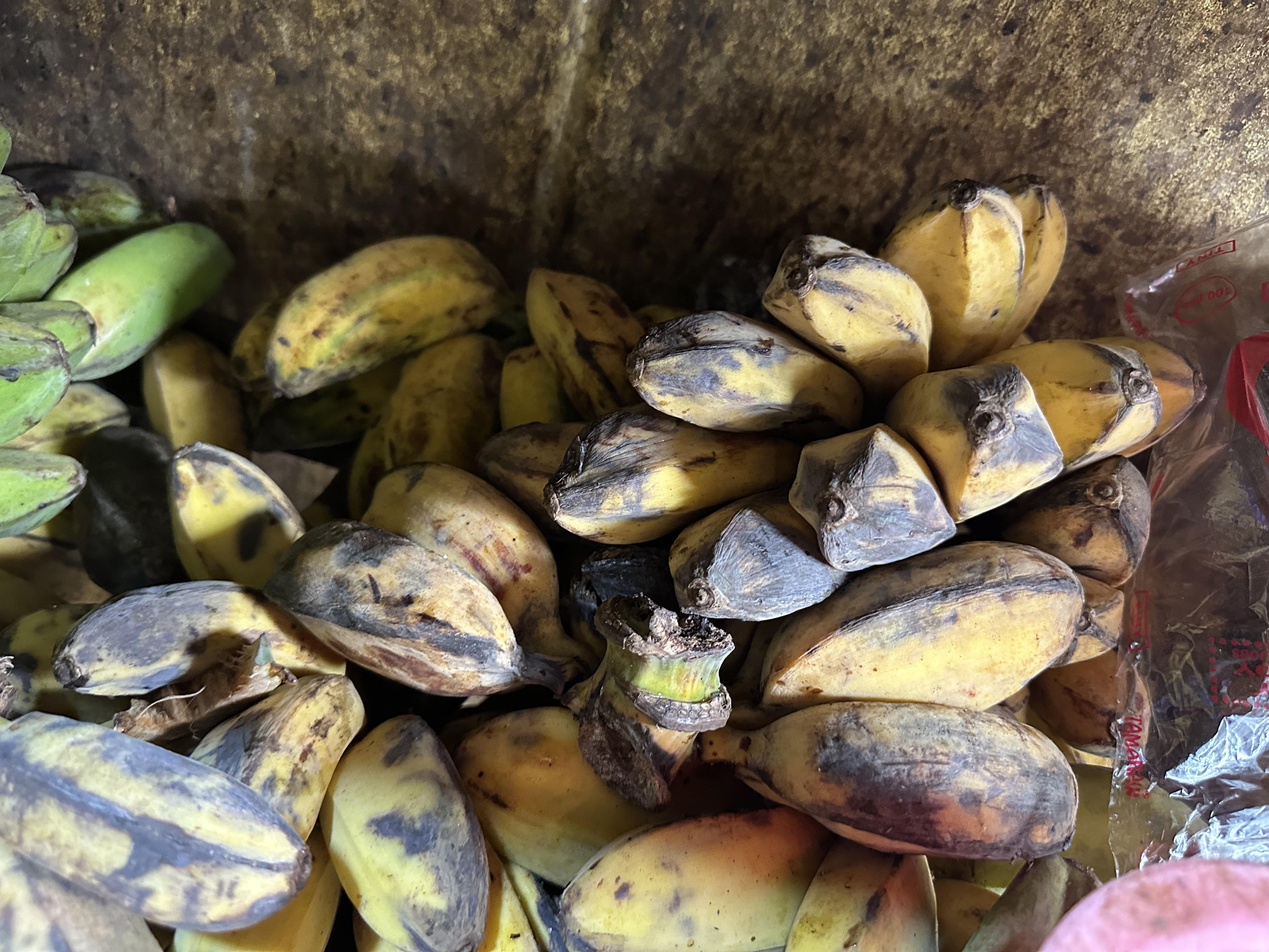ripe: (543, 176, 1205, 620), (54, 581, 653, 952), (736, 542, 1084, 859), (263, 423, 584, 696), (0, 712, 311, 952), (559, 807, 999, 952)
underripe: (233, 235, 644, 518), (6, 164, 234, 380), (0, 174, 97, 536), (0, 124, 12, 171)
